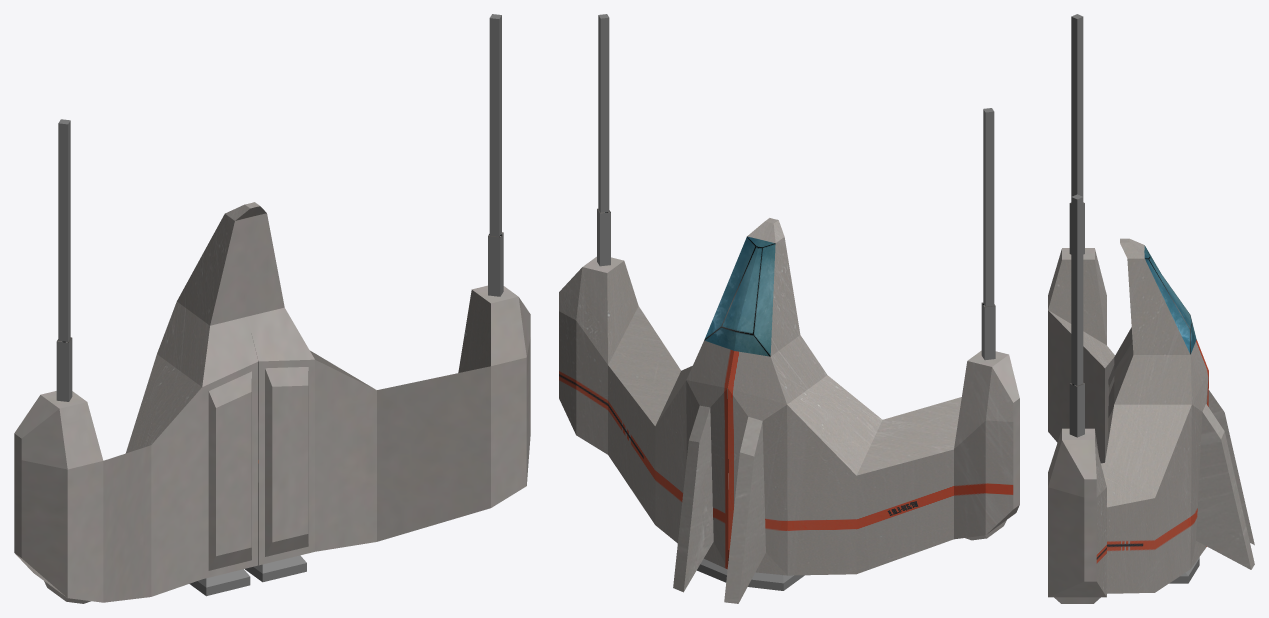
Rendered from fighter01.FBX.
3 renders of one model, left to right at view 1: azimuth 30°, elevation 25°; view 2: azimuth 150°, elevation 25°; view 3: azimuth 270°, elevation 25°, orthographic. The views are drawn at different scales.
Visible parts, largest first — view 1: Box001; view 2: Box001; view 3: Box001.
Boxes of the visible parts, x1,y1,x2,y2 form: Box001: (14, 14, 530, 603); Box001: (559, 14, 1019, 603); Box001: (1048, 14, 1254, 603).
Size of the model in its own units: 98.09 by 97.93 by 40.27.
